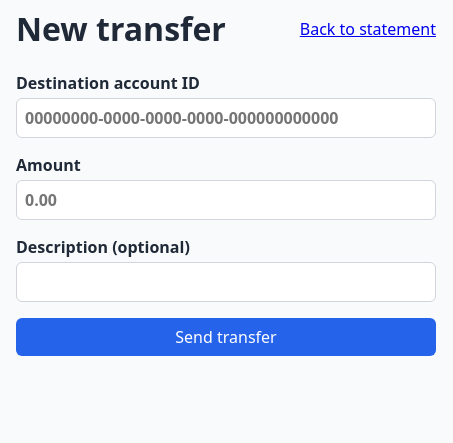
it: TransferPage › submits amounts as integer cents to the transfer endpoint
Step 1. Type "11111111-1111-4111-8111-111111111111" into the field labelled "Destination account ID" → (226, 118), box [16,98,436,138]
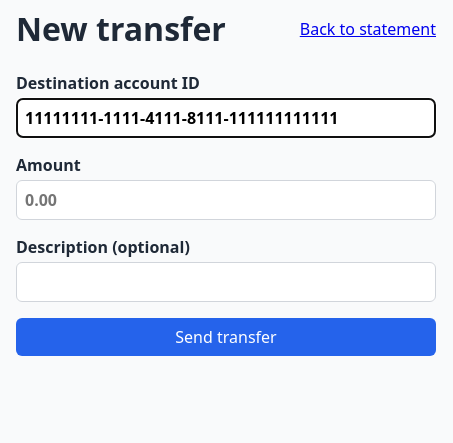
Step 2. Type "12.34" into the field labelled "Amount" → (226, 200), box [16,180,436,220]
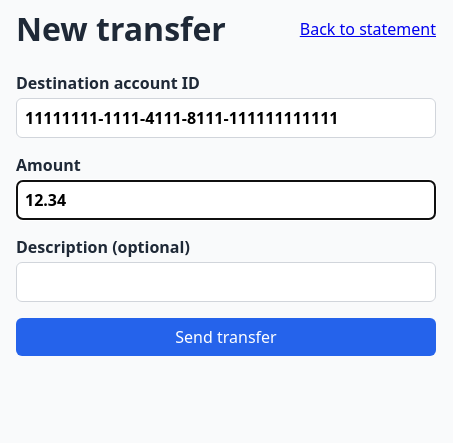
Step 3. Click the button "Send transfer" → (226, 337), box [16,318,436,356]
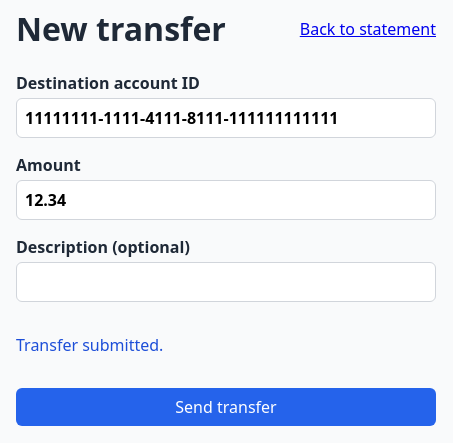
Check: the message reads "Transfer submitted.", box [16,334,163,356]
